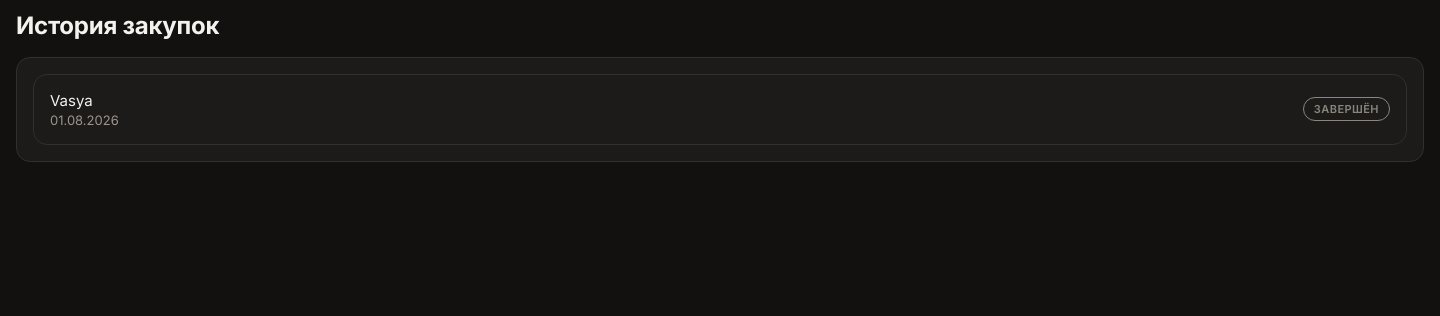
HistoryPage › lists finished orders and shows the selected one on click
Click the button "Vasya 01.08.2026 Завершён".
click(71, 100)  # box [33, 74, 1407, 145]
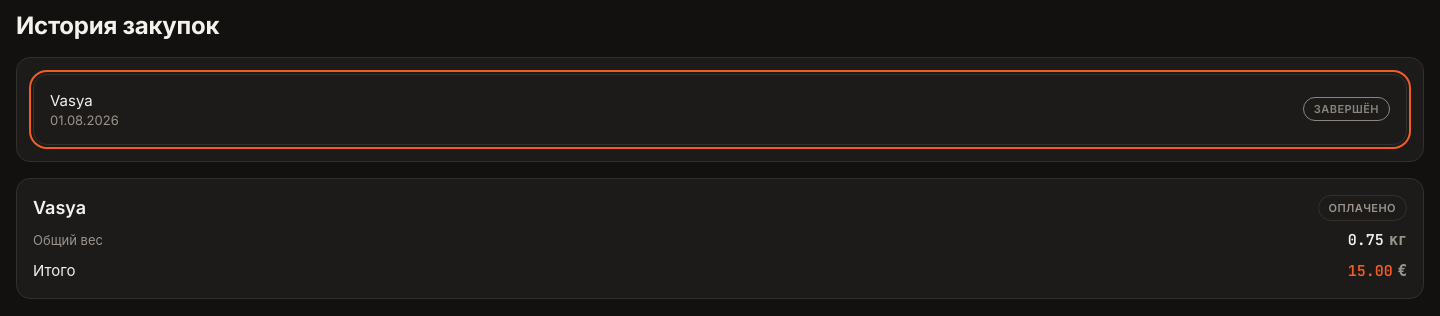
Now the text "Итого" shows "0.75", box [1348, 230, 1384, 250]
Now the text "Итого" shows "15.00", box [1348, 261, 1393, 281]
Now the text "Итого" shows "Оплачено", box [1328, 201, 1396, 215]
